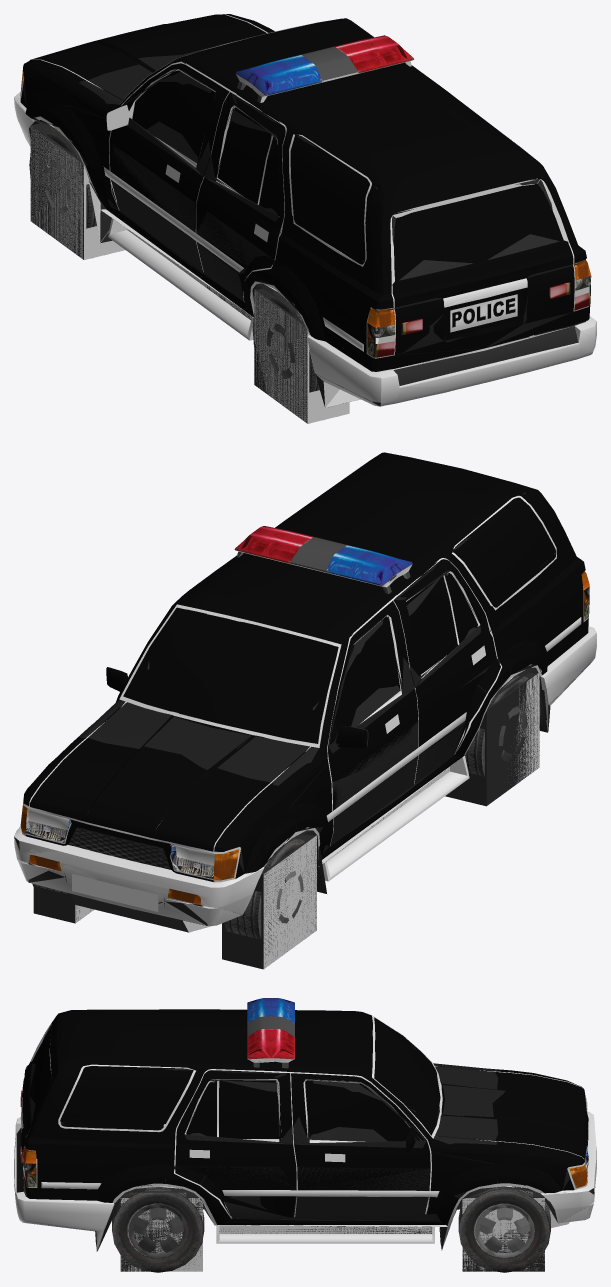
Rendered from police_4runner.fbx.
3 views of the same model, one above another, from view 1: azimuth 30°, elevation 25°; view 2: azimuth 150°, elevation 25°; view 3: azimuth 270°, elevation 25° (orthographic). The views are drawn at different scales.
Parts seen in each view (by area): view 1: body (×4), window, black, lod1_black, lod2_black, lod3_black, flash_blue_lights, flash_red_lights, nomer, chrome, lod1_orange_lights, rear_wheels (+3 smaller); view 2: body (×4), window, black, lod2_black, lod1_black, flash_blue_lights, radiator, front_wheels, flash_red_lights, lod2_chrome, lod3_black, rear_wheels (+4 smaller); view 3: body (×4), window, black, lod1_black, front_wheels, rear_wheels, lod3_black, lod2_black, flash_red_lights, flash_blue_lights, chrome, right_orange_lights.
Boxes of the visible parts, bbox=[...] form: body (×4): bbox=[20, 14, 590, 371]; window: bbox=[132, 70, 563, 281]; black: bbox=[14, 14, 596, 407]; lod1_black: bbox=[17, 51, 594, 423]; lod2_black: bbox=[29, 73, 559, 422]; lod3_black: bbox=[29, 71, 586, 407]; flash_blue_lights: bbox=[235, 55, 322, 95]; flash_red_lights: bbox=[334, 35, 413, 73]; nomer: bbox=[450, 294, 517, 332]; chrome: bbox=[112, 46, 583, 288]; lod1_orange_lights: bbox=[367, 275, 591, 356]; rear_wheels: bbox=[252, 292, 319, 392]; body (×4): bbox=[22, 452, 589, 881]; window: bbox=[123, 497, 556, 743]; black: bbox=[14, 461, 596, 932]; lod2_black: bbox=[14, 552, 590, 969]; lod1_black: bbox=[17, 571, 594, 968]; flash_blue_lights: bbox=[326, 545, 412, 585]; radiator: bbox=[68, 827, 170, 869]; front_wheels: bbox=[32, 837, 317, 939]; flash_red_lights: bbox=[234, 526, 314, 563]; lod2_chrome: bbox=[72, 563, 323, 911]; lod3_black: bbox=[29, 539, 555, 904]; rear_wheels: bbox=[464, 675, 540, 776]; body (×4): bbox=[21, 1009, 588, 1224]; window: bbox=[30, 1018, 440, 1141]; black: bbox=[14, 1015, 596, 1251]; lod1_black: bbox=[18, 1029, 596, 1271]; front_wheels: bbox=[458, 1186, 550, 1272]; rear_wheels: bbox=[112, 1187, 204, 1272]; lod3_black: bbox=[16, 1028, 557, 1271]; lod2_black: bbox=[30, 1024, 594, 1271]; flash_red_lights: bbox=[247, 1029, 294, 1059]; flash_blue_lights: bbox=[247, 998, 294, 1023]; chrome: bbox=[247, 1016, 294, 1068]; right_orange_lights: bbox=[22, 1146, 587, 1188].
Size of the model in its own units: 1.99 by 1.95 by 4.97.
